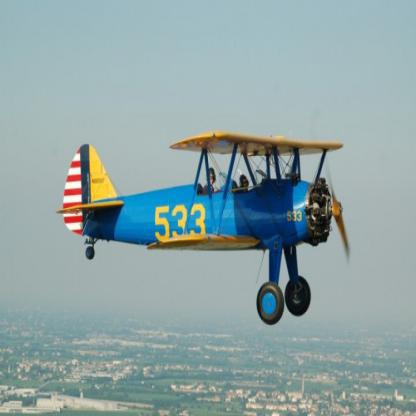CIV_Plane: (49, 124, 350, 334)
